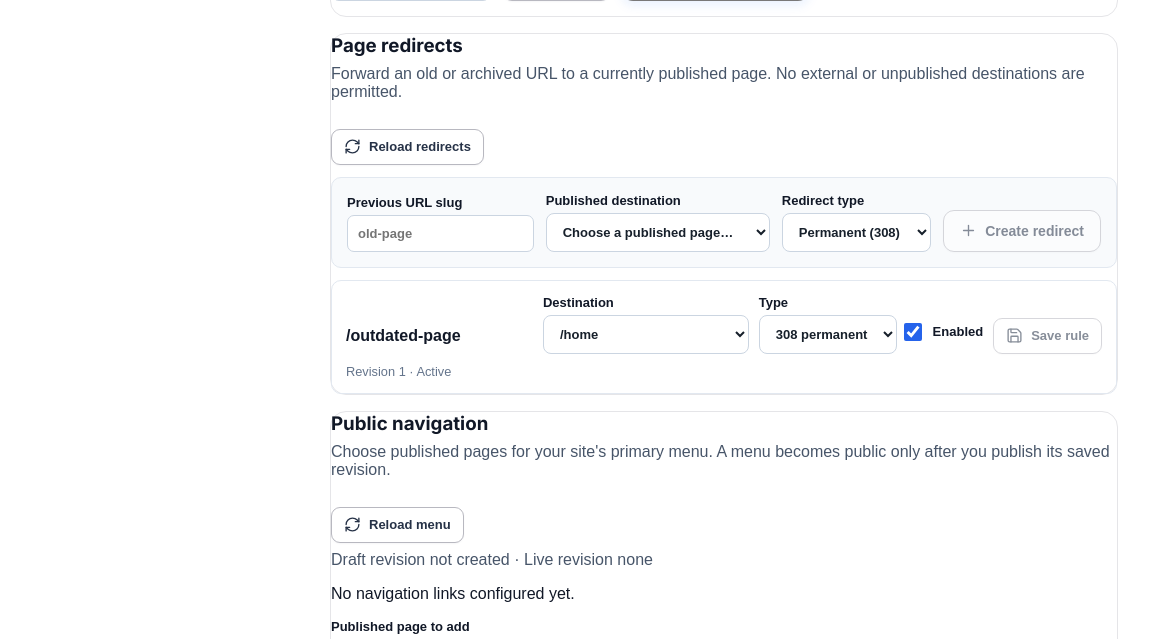
Test: owner CMS page redirects › supports disabling rules without deleting their source or history
(page scrolled)
Check: the text "/outdated-page" is shown, box [346,327,461,344]
Click the checkbox labelled "Enabled" at (913, 332), box [904,323,922,341]
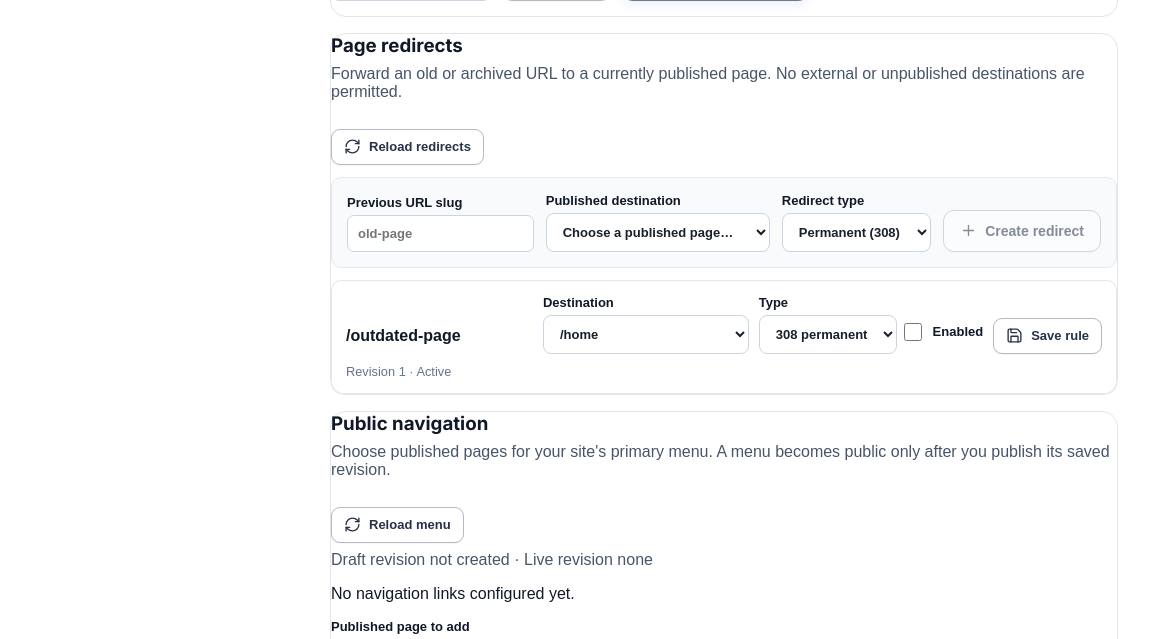
Click the button "Save rule" at (1048, 336), box [993,318,1102,354]
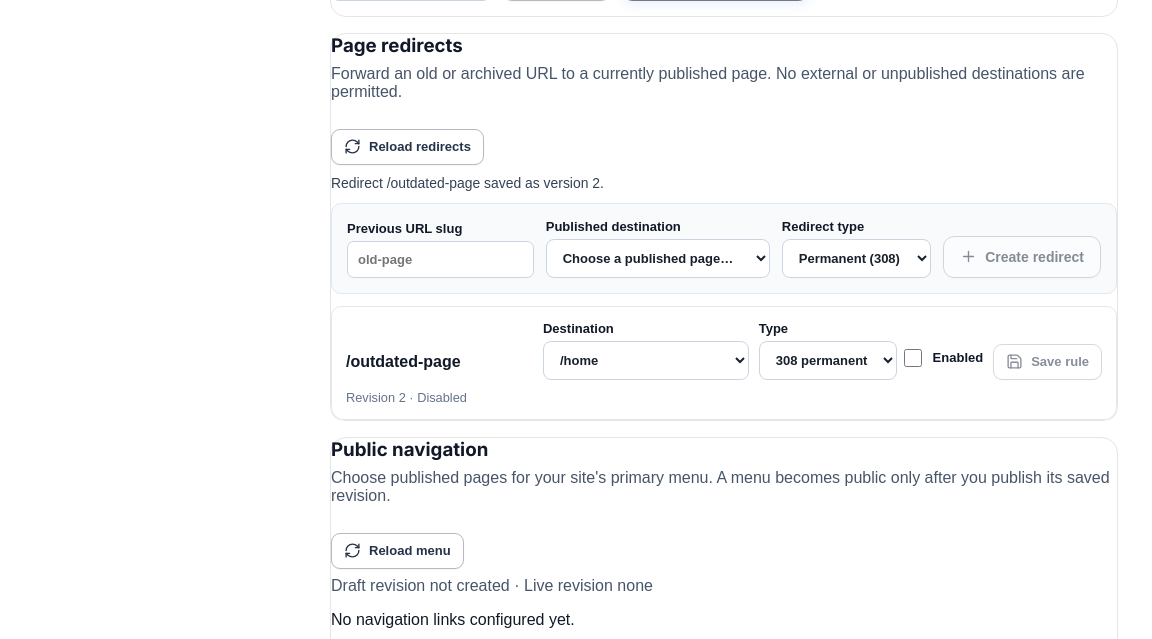
Check: the text "Revision 2 · Disabled" is shown, box [346,390,467,405]
